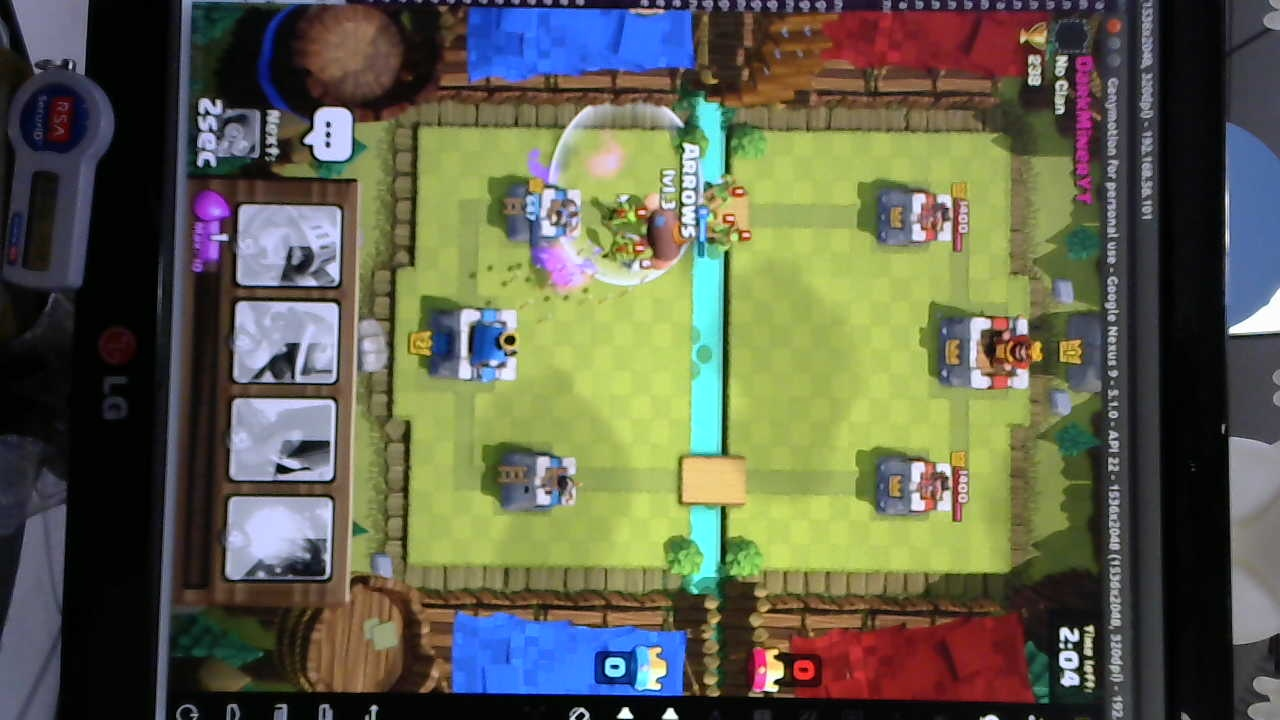arena: (496, 451, 578, 514), (508, 180, 586, 241)
earena: (869, 189, 952, 251), (872, 453, 948, 517)
eking: (939, 313, 1044, 391)
giant: (640, 193, 695, 273)
goblins: (599, 196, 649, 269)
king: (425, 304, 525, 386)
speargoblins: (701, 175, 751, 255)
